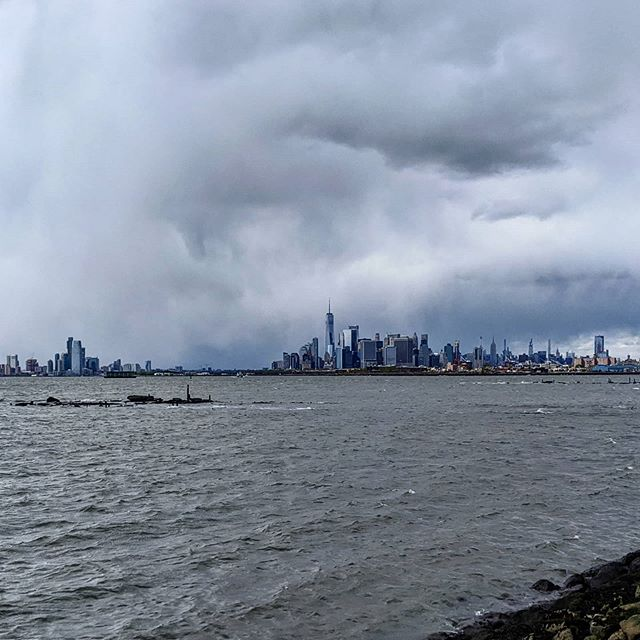building: (317, 305, 339, 369), (382, 327, 410, 367), (59, 339, 89, 371), (412, 326, 433, 367), (592, 333, 611, 373), (360, 336, 380, 371), (341, 324, 356, 364), (528, 335, 544, 367), (472, 330, 484, 367), (487, 339, 499, 363)
sea: (13, 381, 640, 637)
sky: (1, 1, 635, 351)
